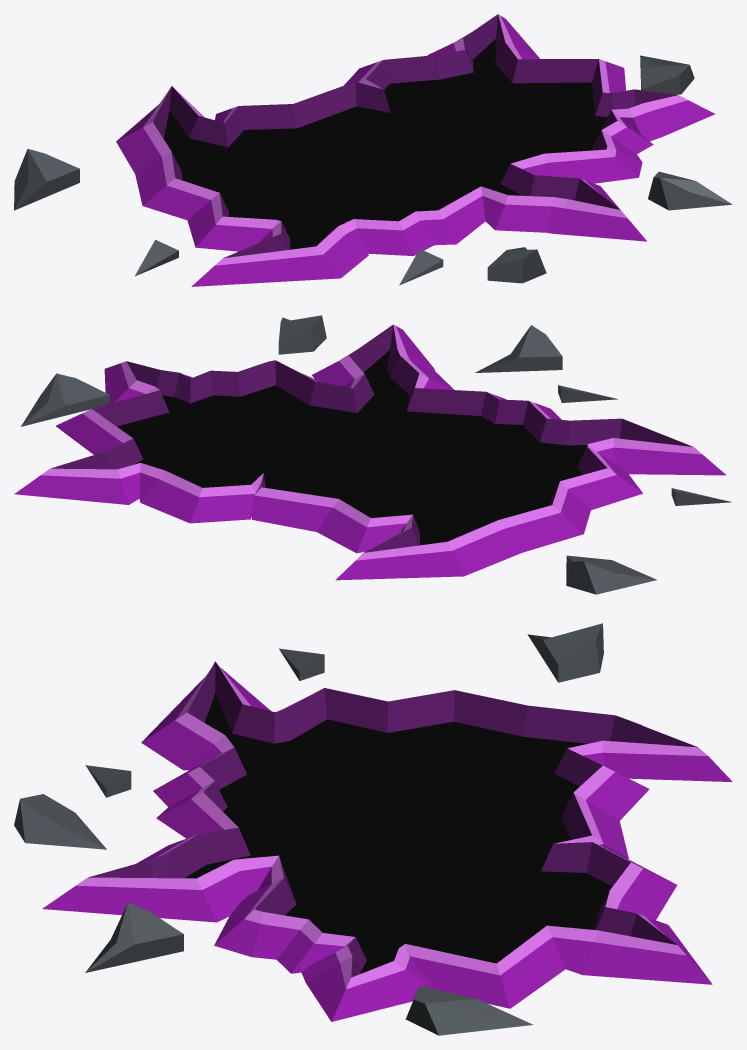
File: TU_Obstacle_DataGap.fbx
3 views of the same model, one above another, from view 1: azimuth 30°, elevation 25°; view 2: azimuth 150°, elevation 25°; view 3: azimuth 270°, elevation 25° (orthographic). The views are drawn at different scales.
Visible parts, largest first — view 1: Cube.006; view 2: Cube.006; view 3: Cube.006.
Boxes of the visible parts, left/top/right/bottom form: Cube.006: left=14, top=14, right=732, bottom=286; Cube.006: left=14, top=315, right=731, bottom=594; Cube.006: left=14, top=623, right=732, bottom=1035.
Bounding box in the file's own units: 217 × 9.6 × 164.
